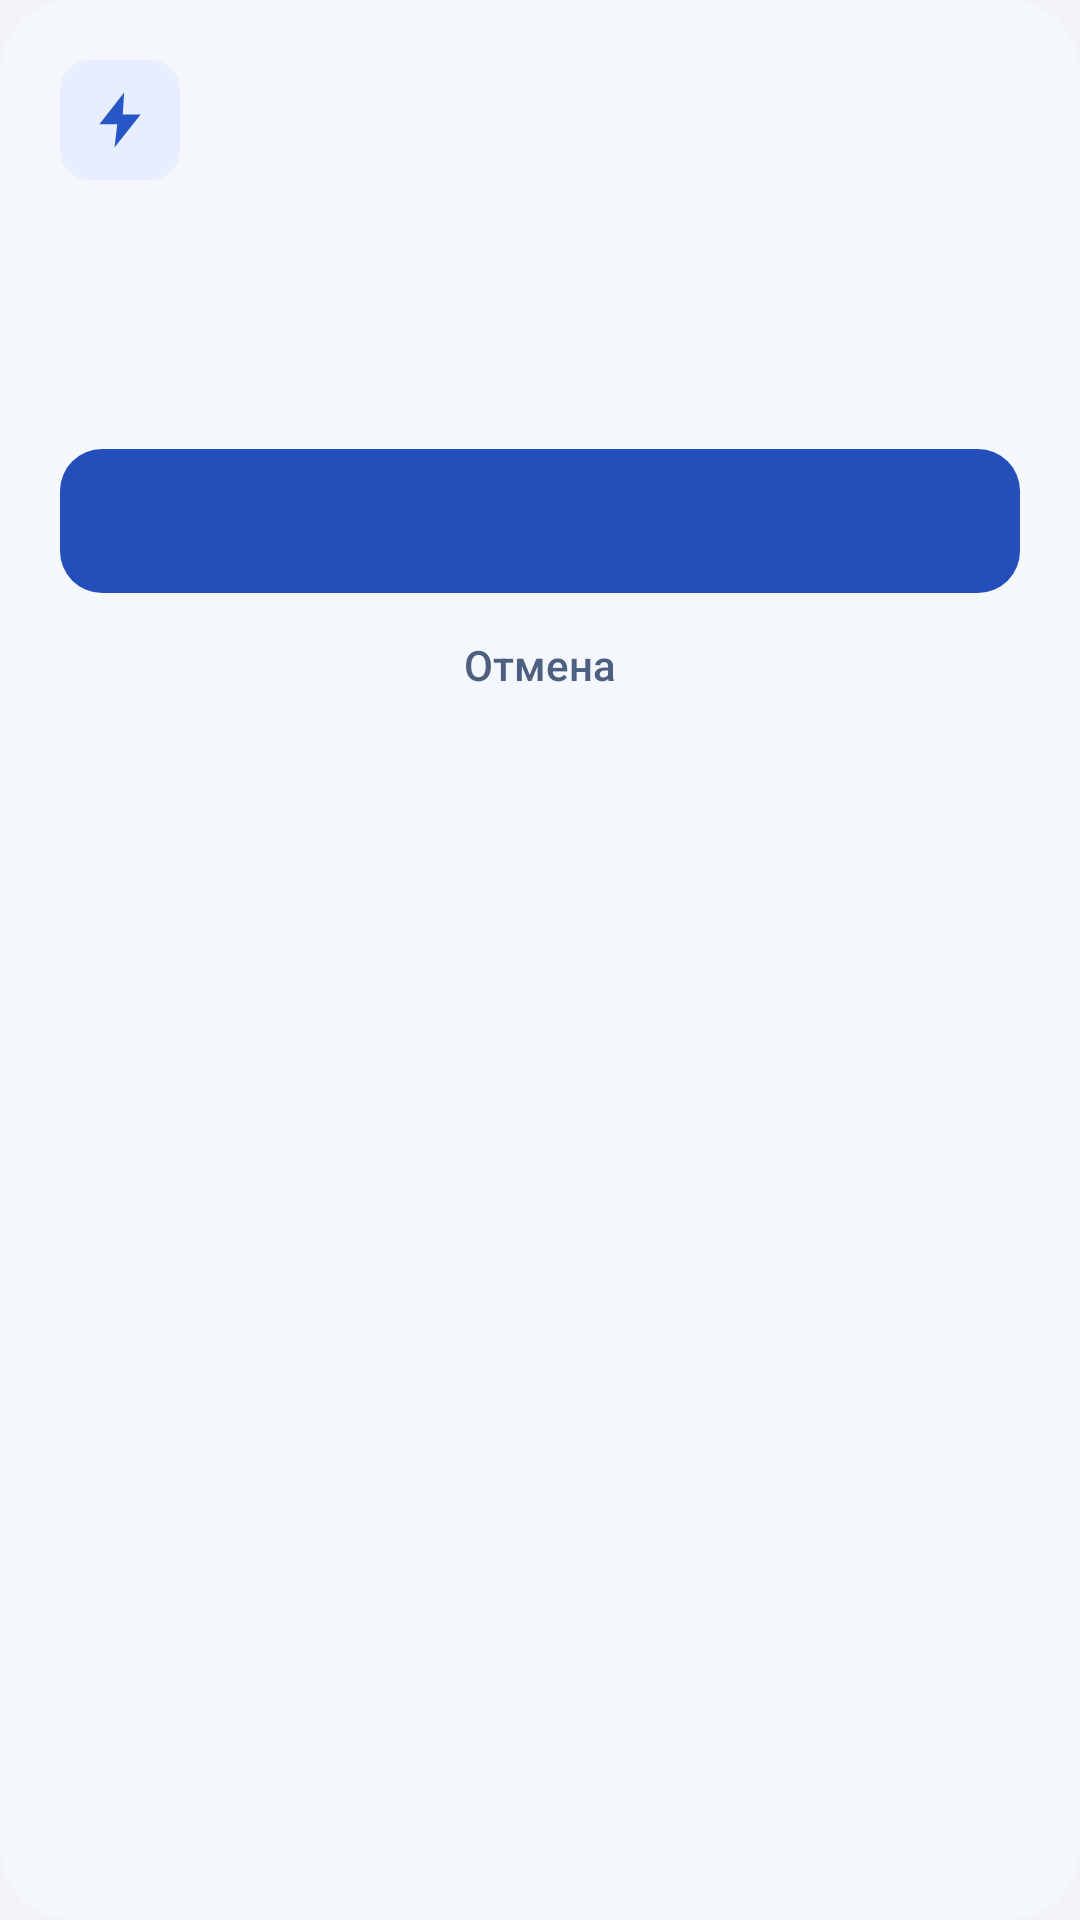

Icons on this 1080×1920 Android screen, each with its box as region(x1, y1, x2, y2):
bolt: region(60, 60, 180, 180)
